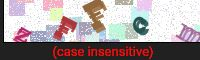F: (81, 1, 121, 37), (42, 14, 81, 41)
c: (130, 14, 155, 37)
m: (174, 18, 200, 42)
z: (8, 23, 33, 43)
